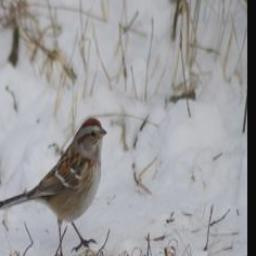Sparrow: (0, 111, 111, 256)
